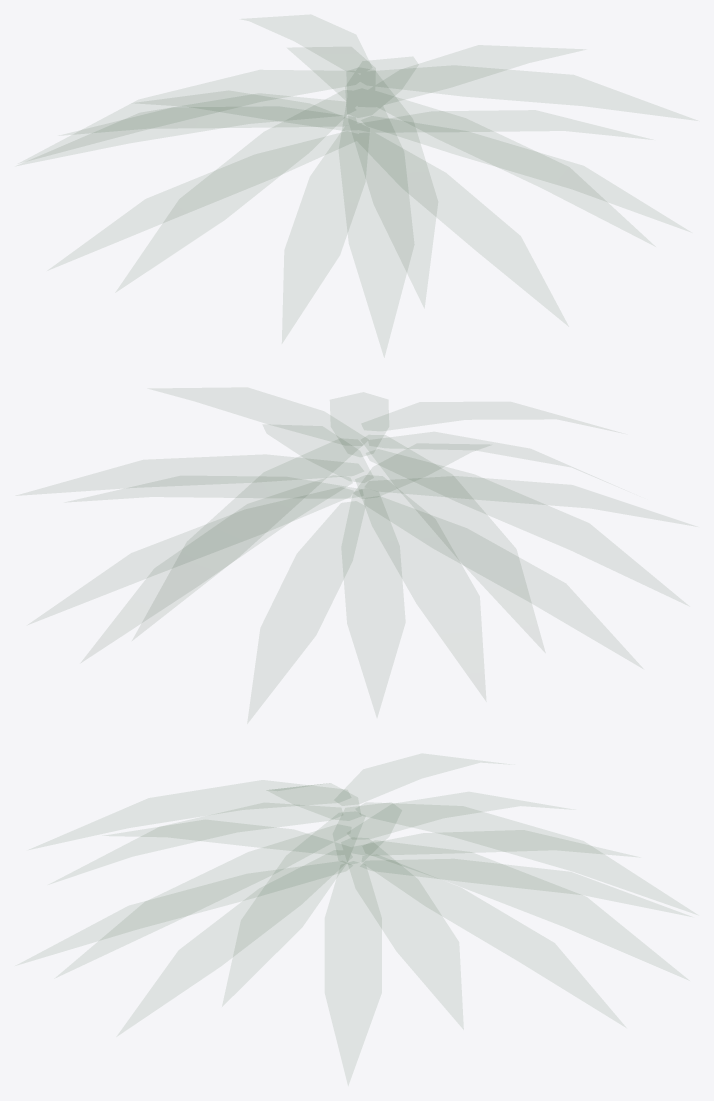
Rendered from palmera.obj.
The picture shows the model from 3 angles, top to bottom: view 1: azimuth 30°, elevation 25°; view 2: azimuth 150°, elevation 25°; view 3: azimuth 270°, elevation 25°; orthographic projection. The views are drawn at different scales.
Size of the model in its own units: 15.18 by 3.7 by 15.28.
